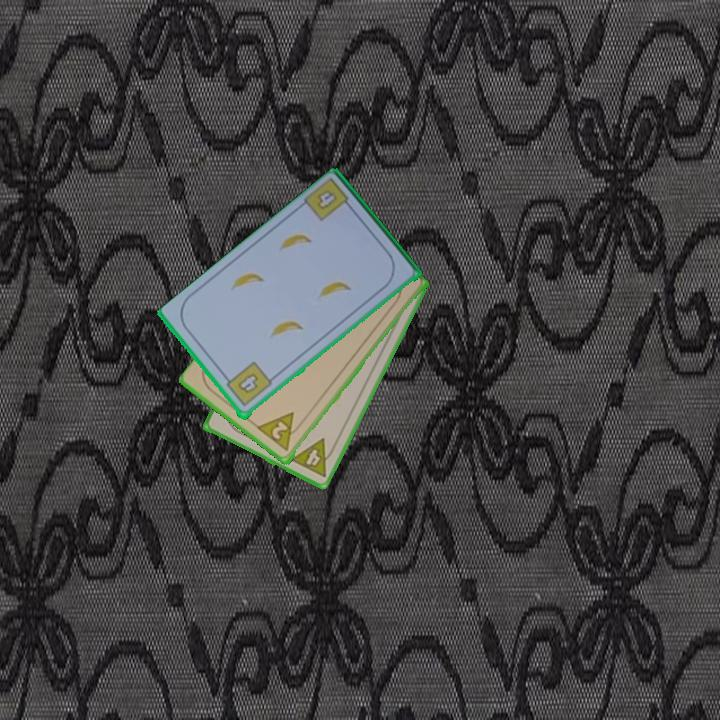2p: (254, 409, 306, 455)
4b: (221, 358, 275, 410), (301, 175, 357, 225)
4p: (287, 435, 339, 481)
